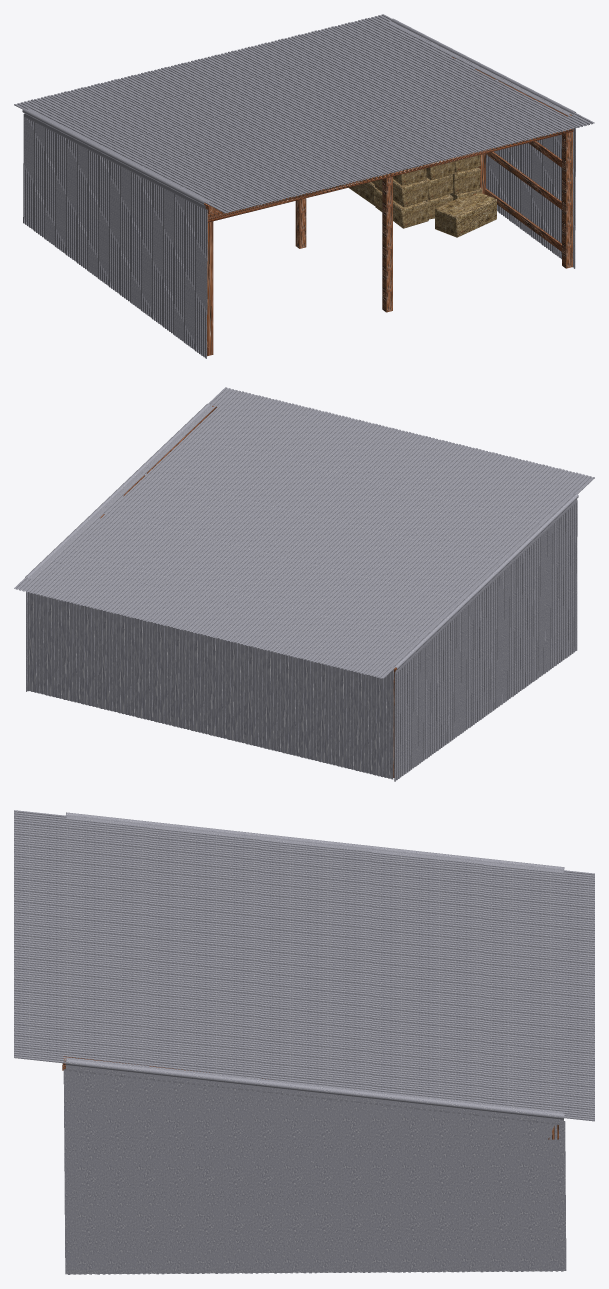
Rendered from Shed.fbx.
The picture shows the model from 3 angles, top to bottom: view 1: azimuth 30°, elevation 25°; view 2: azimuth 150°, elevation 25°; view 3: azimuth 270°, elevation 25°; orthographic projection. The views are drawn at different scales.
Visible parts, largest first — view 1: Tin, Frame, Hay; view 2: Tin; view 3: Tin.
Boxes of the visible parts, x1,y1,x2,y2 form: Tin: (14,14,594,358); Frame: (204,57,573,356); Hay: (348,155,496,237); Tin: (14,387,594,781); Tin: (14,810,594,1274).
Bounding box in the file's own units: 3667 × 1514 × 3613.
Materials: 3 (3 with a texture image).
